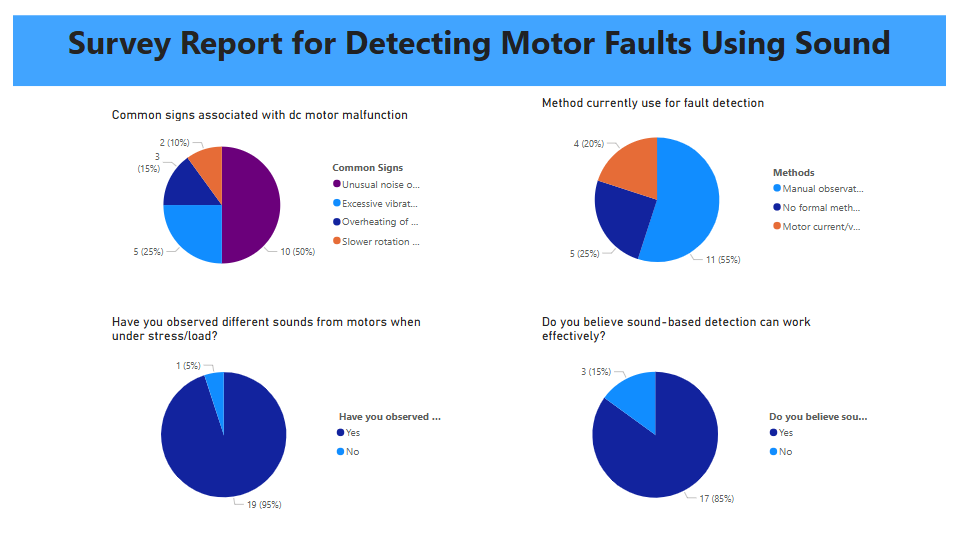

Layout of this report page (visuals, bound fields, positions):
{"tool":"powerbi","page":{"name":"Page 1","canvas":[1280,720],"ordinal":0},"visuals":[{"type":"pieChart","title":"Common signs associated with dc motor malfunction","fields":{"Category":["Survey.What common signs do you associate with motor malfunction?  "],"Y":["CountNonNull(Survey.What common signs do you associate with motor malfunction?  )"]},"box":[146,144,430,244],"z":0},{"type":"pieChart","title":"Method currently use for fault detection","fields":{"Y":["CountNonNull(Survey.Which method do you currently use for fault detection?  )"],"Category":["Survey.Which method do you currently use for fault detection?  "]},"box":[720,128,450,260],"z":1000},{"type":"pieChart","title":"Have you observed different sounds from motors when under stress/load?  ","fields":{"Category":["Survey. Have you observed different sounds from motors when under stress/load?  "],"Y":["CountNonNull(Survey. Have you observed different sounds from motors when under stress/load?  )"]},"box":[146,420,450,284],"z":2000},{"type":"pieChart","title":" Do you believe sound-based detection can work effectively?  ","fields":{"Category":["Survey.Do you believe sound-based detection can work effectively?  "],"Y":["CountNonNull(Survey.Do you believe sound-based detection can work effectively?  )"]},"box":[720,420,450,284],"z":3000},{"type":"textbox","box":[20,22,1244,94],"z":4000}]}

Visuals, with their boxes in screenshot pixels (x1, y1, x2, y2), scaled from the page's 1280x720 canvas onto the 956x533 screenshot:
"Common signs associated with dc motor malfunction" pieChart: [left=109, top=107, right=430, bottom=287]
"Method currently use for fault detection" pieChart: [left=538, top=95, right=874, bottom=287]
"Have you observed different sounds from motors when under stress/load?  " pieChart: [left=109, top=311, right=445, bottom=521]
" Do you believe sound-based detection can work effectively?  " pieChart: [left=538, top=311, right=874, bottom=521]
textbox: [left=15, top=16, right=944, bottom=86]
